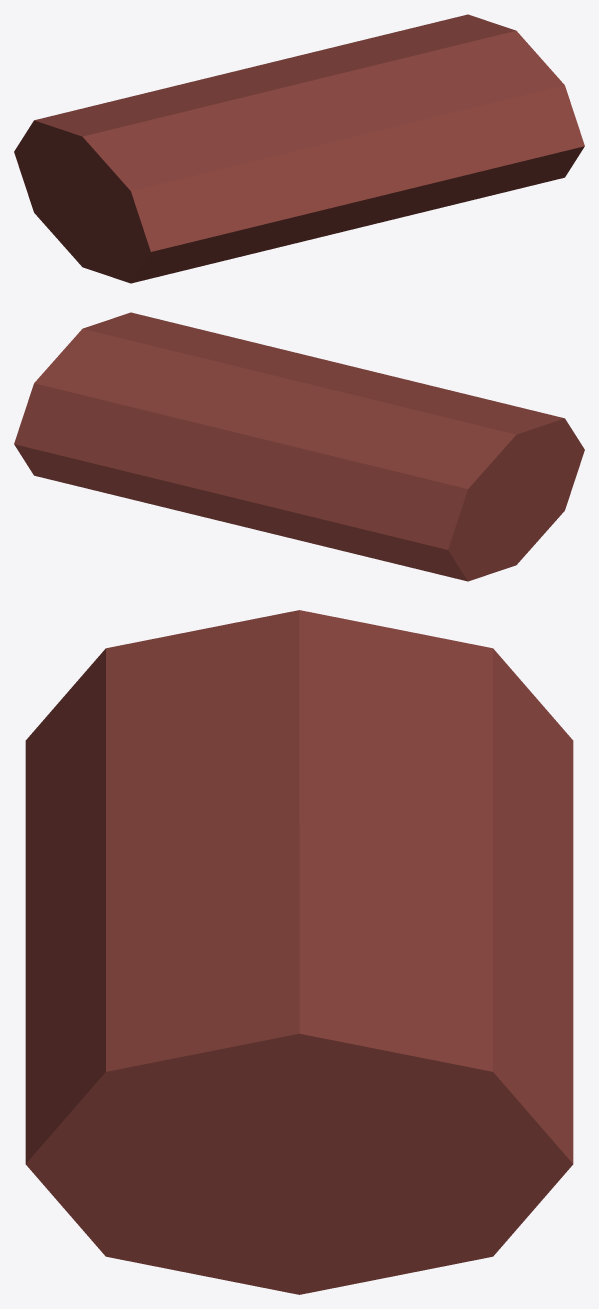
File: packed_tipi.glb
The picture shows the model from 3 angles, top to bottom: view 1: azimuth 30°, elevation 25°; view 2: azimuth 150°, elevation 25°; view 3: azimuth 270°, elevation 25°; orthographic projection. The views are drawn at different scales.
Visible parts, largest first — view 1: Cylinder; view 2: Cylinder; view 3: Cylinder.
Part boxes in pixels (<box>): Cylinder: <box>14,14,584,283</box>; Cylinder: <box>14,312,584,581</box>; Cylinder: <box>25,610,573,1294</box>.
Bounding box in the file's own units: 0.68 × 0.1955 × 0.3716.
